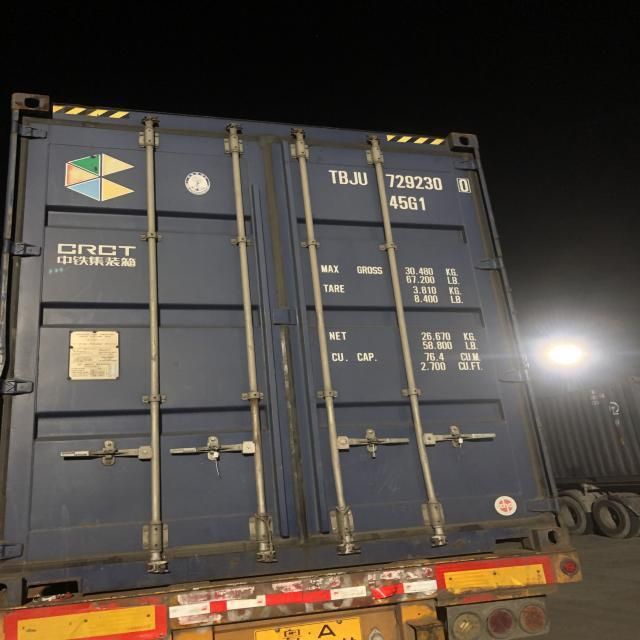ISO: (391, 194, 428, 212)
container_number: (334, 172, 476, 192)
